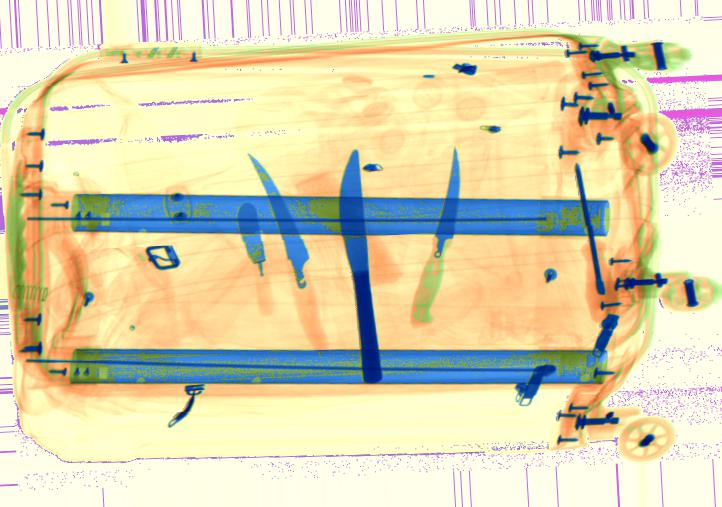KnifeCustom: (338, 149, 382, 384), (246, 153, 313, 294), (411, 146, 462, 327), (236, 200, 266, 281)
